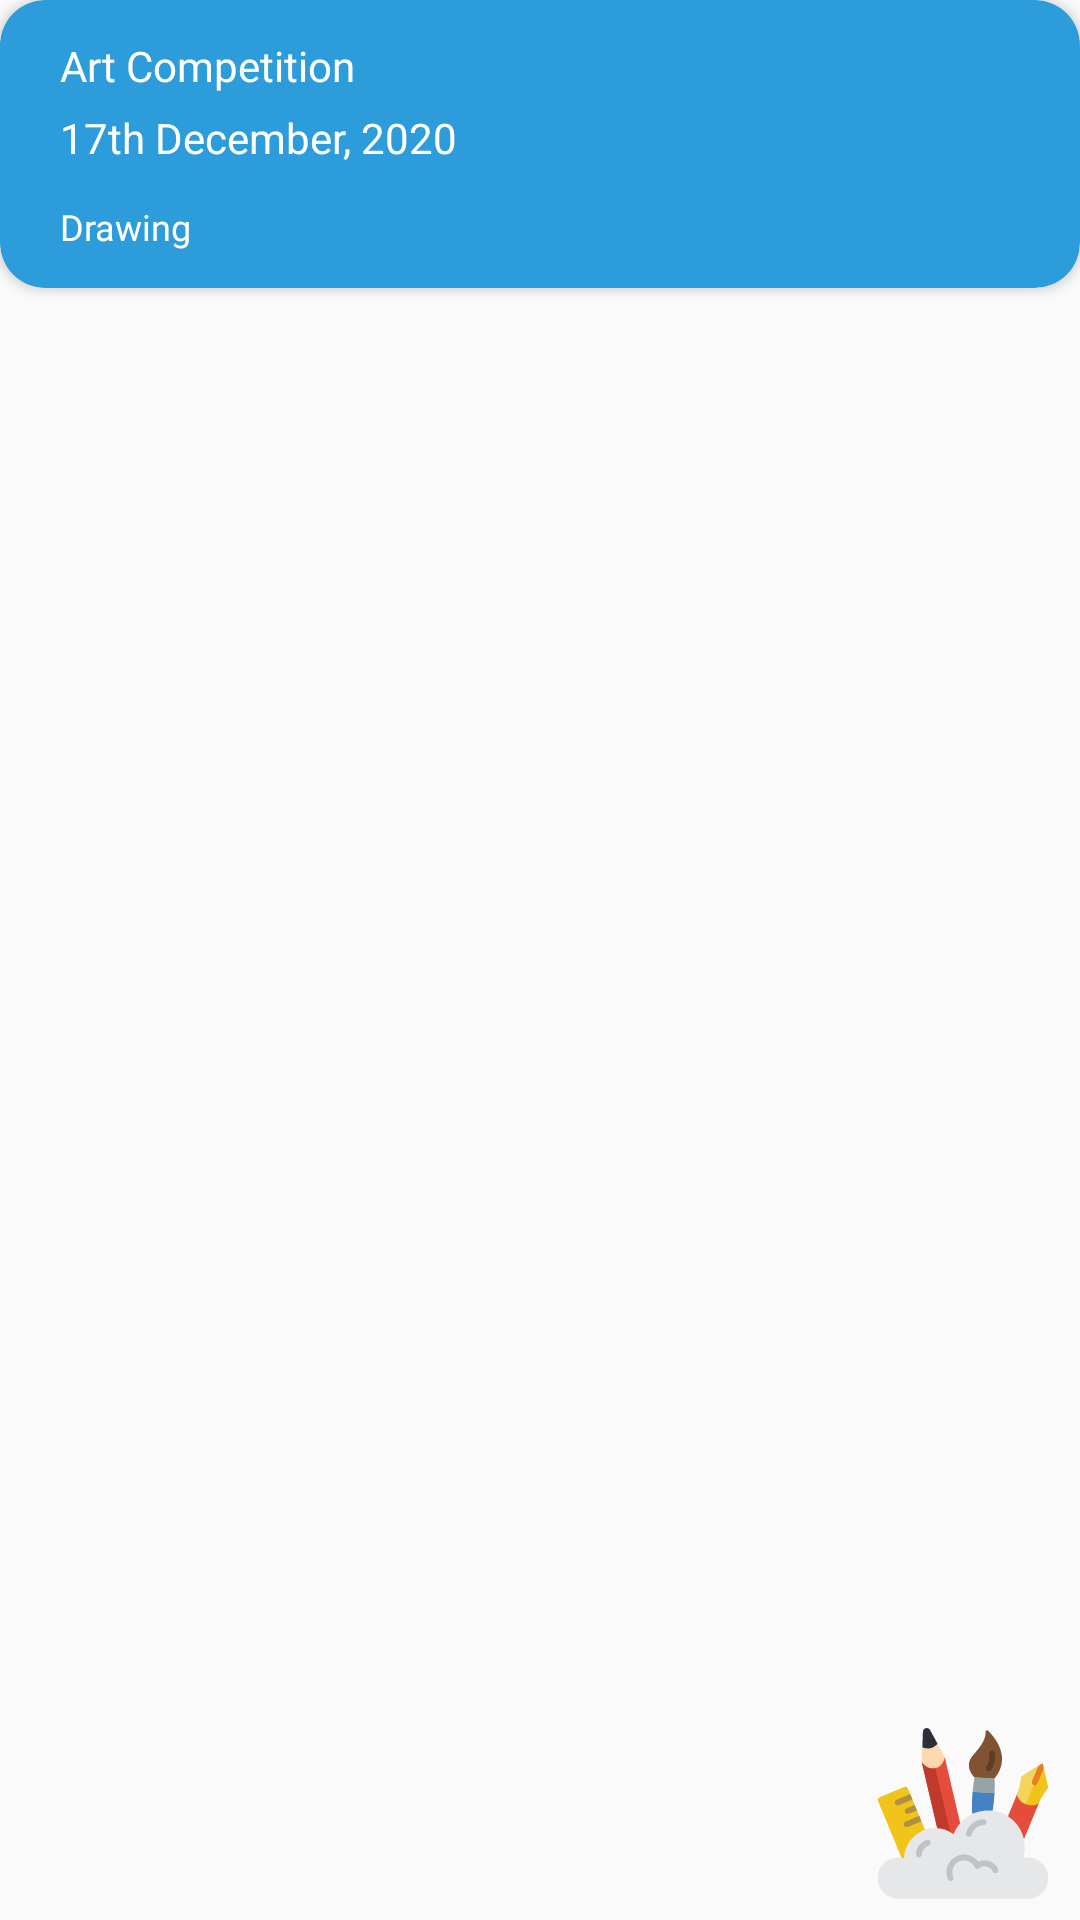

Point at icon controls on the screen. Image size 1080px×1920px, points as [x,y].
art: [963,1804]
